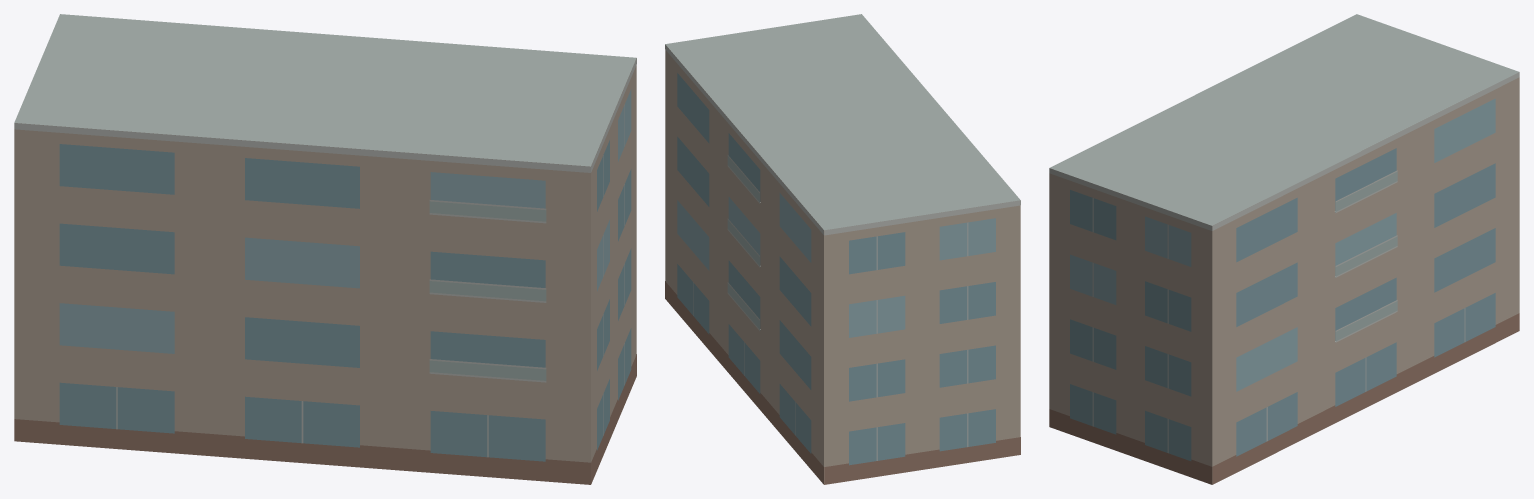
Rendered from survey-upis-32961777.glb.
The picture shows the model from 3 angles, left to right: view 1: azimuth 30°, elevation 25°; view 2: azimuth 150°, elevation 25°; view 3: azimuth 270°, elevation 25°; orthographic projection. The views are drawn at different scales.
Visible parts, largest first — view 1: survey-upis-32961777.tmp; view 2: survey-upis-32961777.tmp; view 3: survey-upis-32961777.tmp.
Boxes of the visible parts, x1,y1,x2,y2 form: survey-upis-32961777.tmp: (14, 14, 636, 484); survey-upis-32961777.tmp: (665, 14, 1020, 484); survey-upis-32961777.tmp: (1049, 14, 1519, 484).
Size of the model in its own units: 21.06 by 12 by 19.76.
